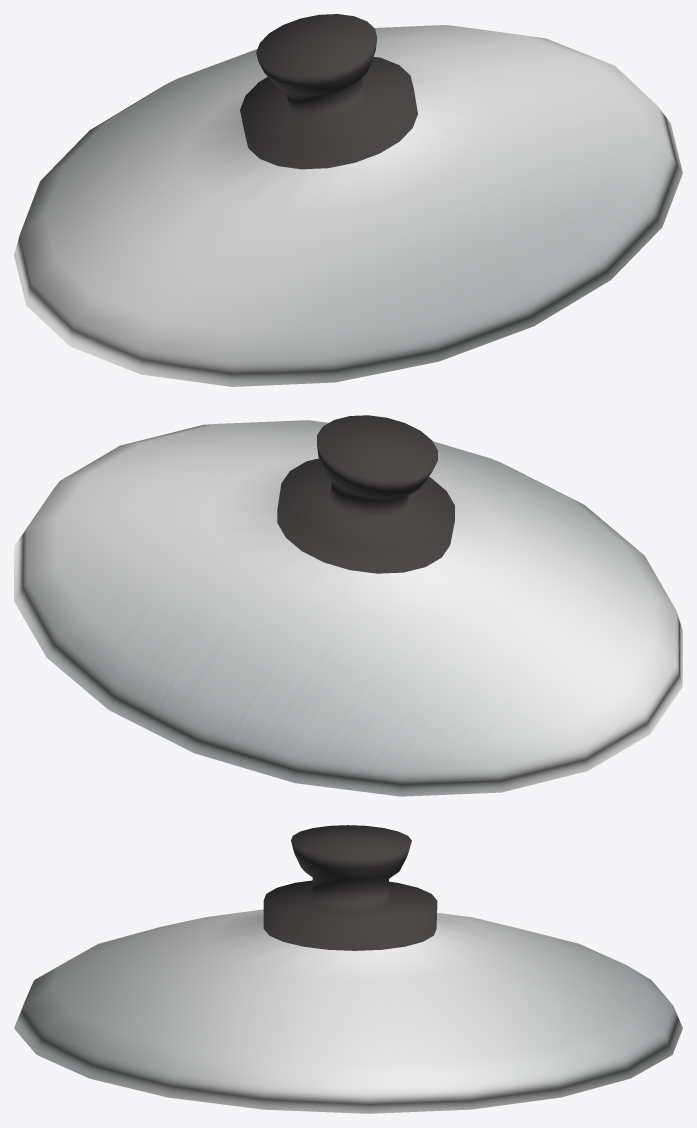
File: pot_lid.fbx
3 renders of one model, top to bottom at view 1: azimuth 30°, elevation 25°; view 2: azimuth 150°, elevation 25°; view 3: azimuth 270°, elevation 25°, orthographic. The views are drawn at different scales.
Visible parts, largest first — view 1: Pot_lid; view 2: Pot_lid; view 3: Pot_lid.
Boxes of the visible parts, x1,y1,x2,y2 form: Pot_lid: (14, 14, 682, 386); Pot_lid: (14, 415, 682, 796); Pot_lid: (14, 825, 682, 1113).
Bounding box in the file's own units: 44.89 × 17.79 × 45.6.
